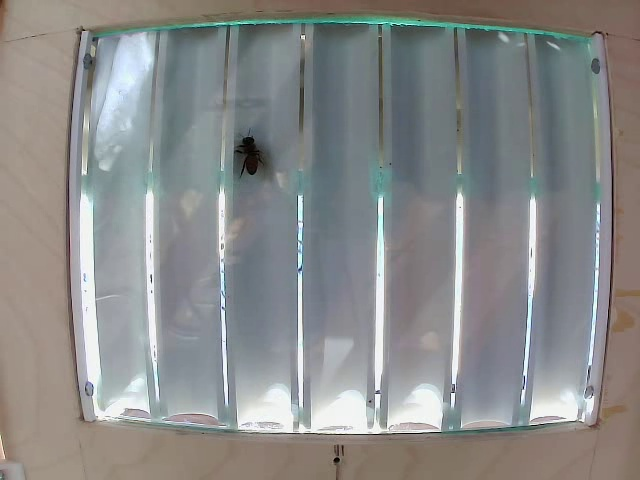bee: (236, 133, 276, 182)
